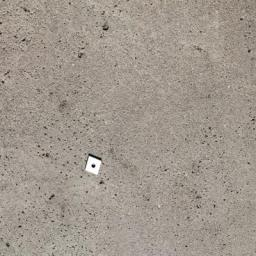FOD: (83, 150, 105, 178)
